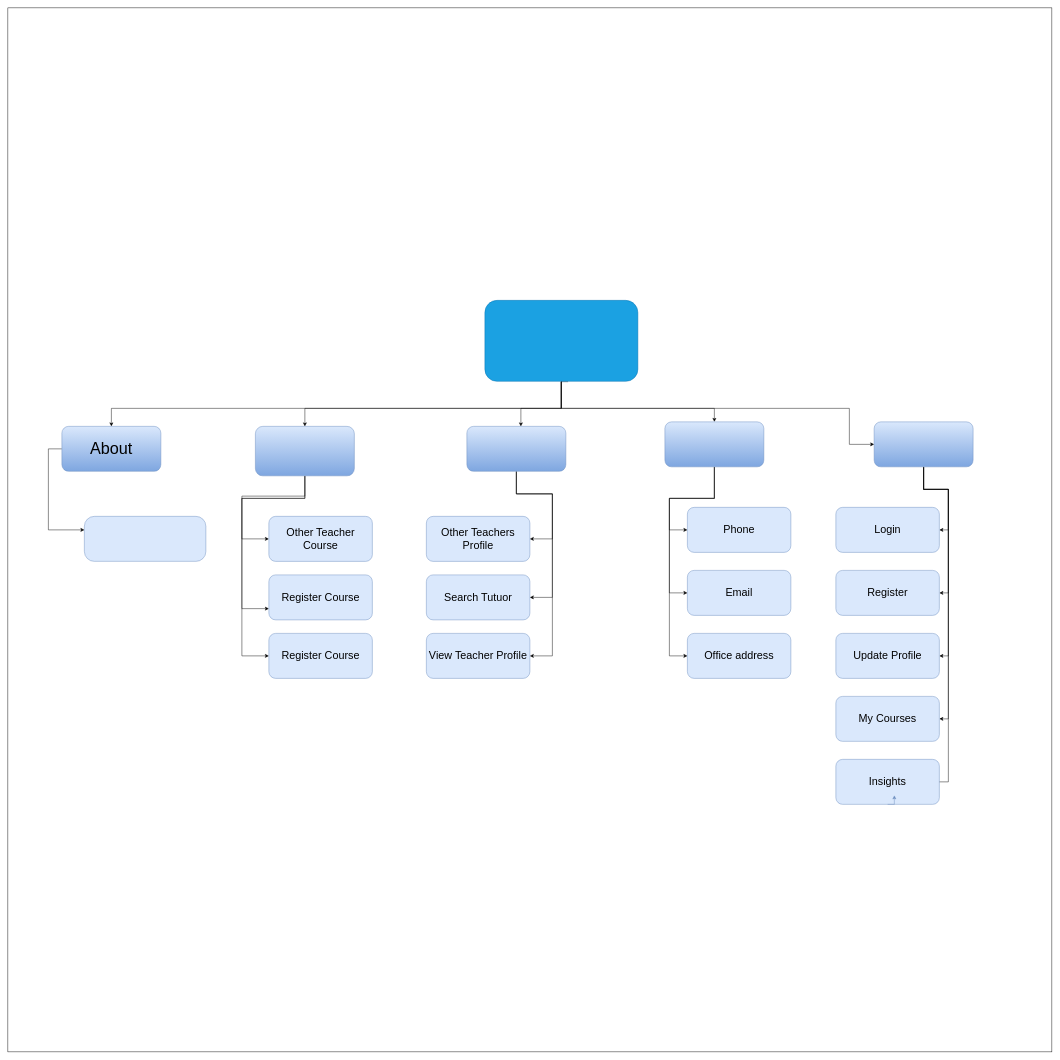
Image size: 1060x1060. Some labels were removed from this diagram. Each missing label, with the centre of its shape:
"Contact Us" belongs at pixel 714 444.
"Courses" belongs at pixel 304 451.
"HOME" belongs at pixel 561 340.
"My Profile" belongs at pixel 923 444.
"OurVision" belongs at pixel 145 538.
"Teachers" belongs at pixel 516 448.
